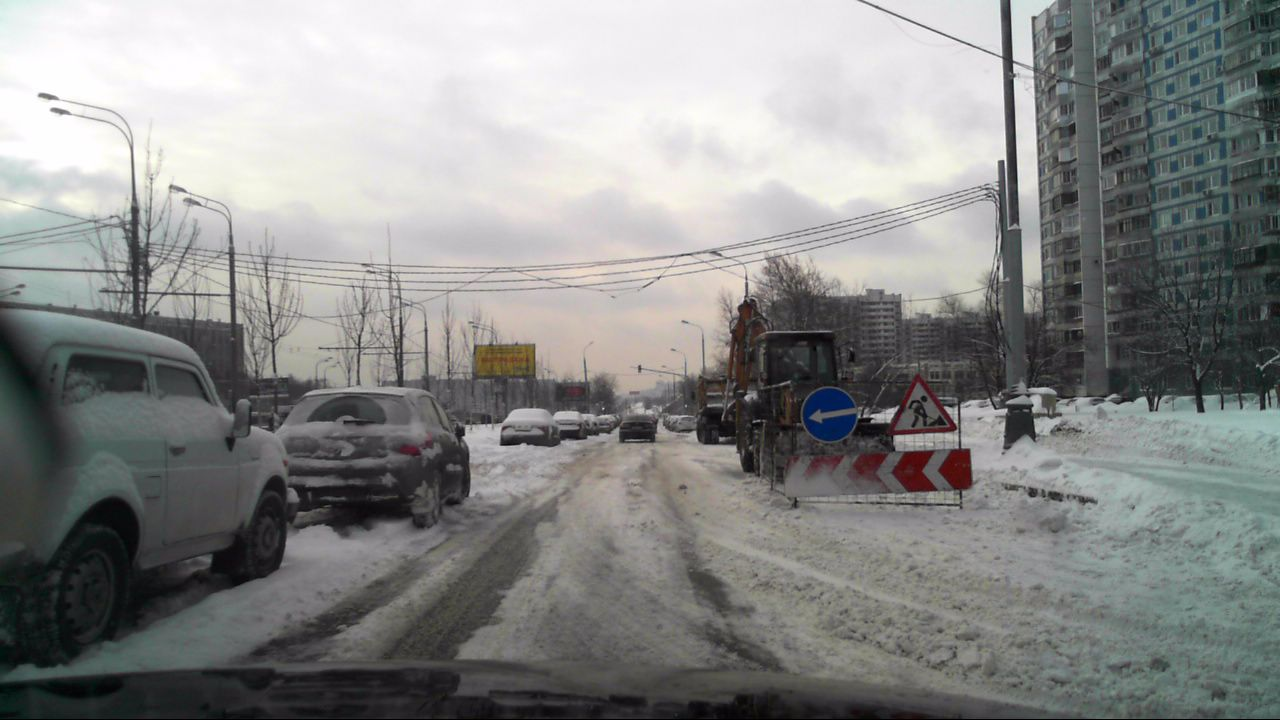Turn Left: (800, 386, 858, 443)
